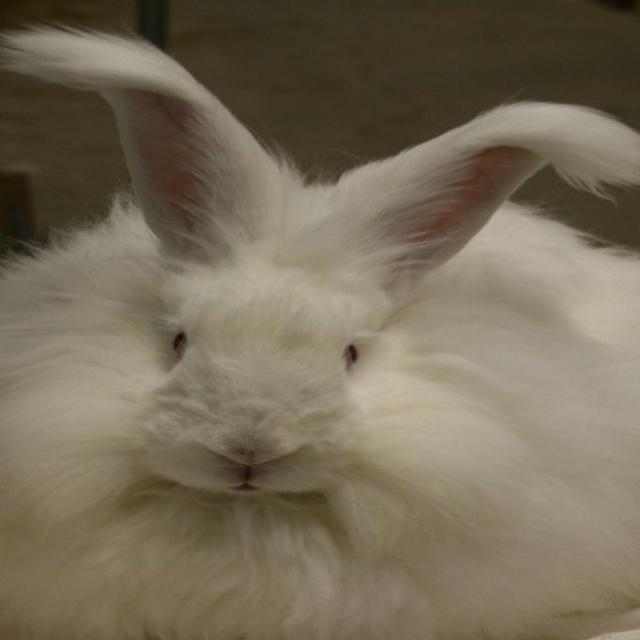Rabbit: (0, 18, 640, 640)
